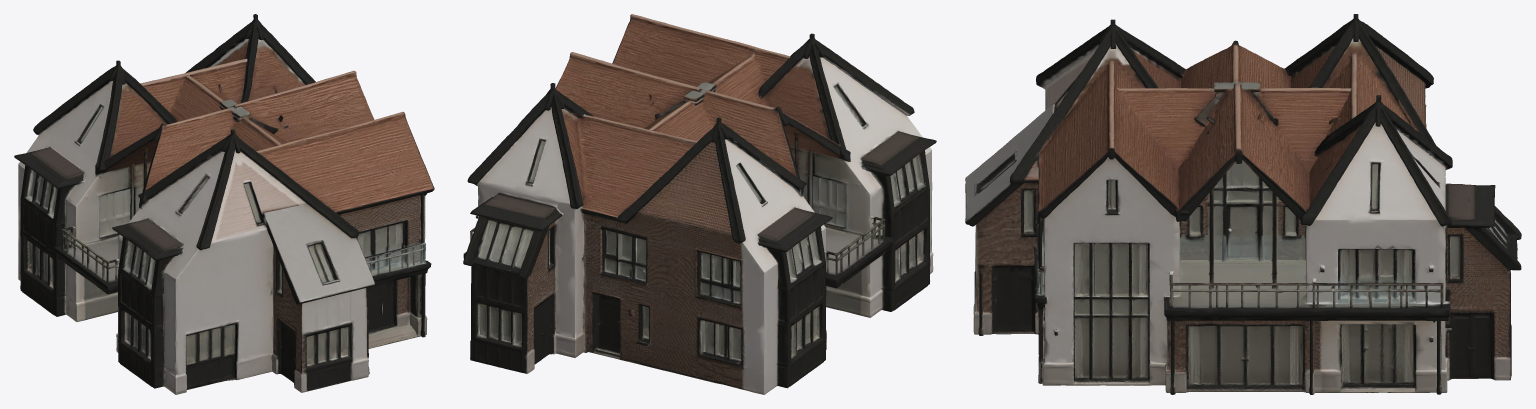
File: alon_house-v1.glb
The picture shows the model from 3 angles, left to right: view 1: azimuth 30°, elevation 25°; view 2: azimuth 150°, elevation 25°; view 3: azimuth 270°, elevation 25°; orthographic projection. The views are drawn at different scales.
Parts seen in each view (by area): view 1: tripo_node_6a4dadad-3c3e-4013-8c18-02e6c0c952cc; view 2: tripo_node_6a4dadad-3c3e-4013-8c18-02e6c0c952cc; view 3: tripo_node_6a4dadad-3c3e-4013-8c18-02e6c0c952cc.
Boxes of the visible parts, box(x1,y1,x2,y2) form: tripo_node_6a4dadad-3c3e-4013-8c18-02e6c0c952cc: box(14, 14, 434, 394); tripo_node_6a4dadad-3c3e-4013-8c18-02e6c0c952cc: box(463, 14, 936, 394); tripo_node_6a4dadad-3c3e-4013-8c18-02e6c0c952cc: box(965, 14, 1521, 394).
Bounding box in the file's own units: 126 × 94.83 × 175.
Materials: 1 (1 with a texture image).
